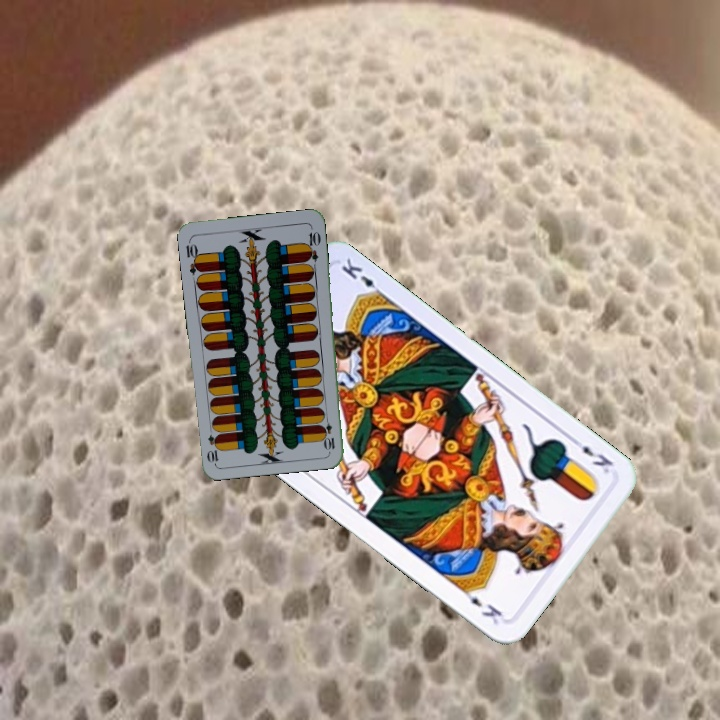E10: (182, 236, 204, 277), (320, 412, 337, 452)
EK: (567, 434, 616, 476)
